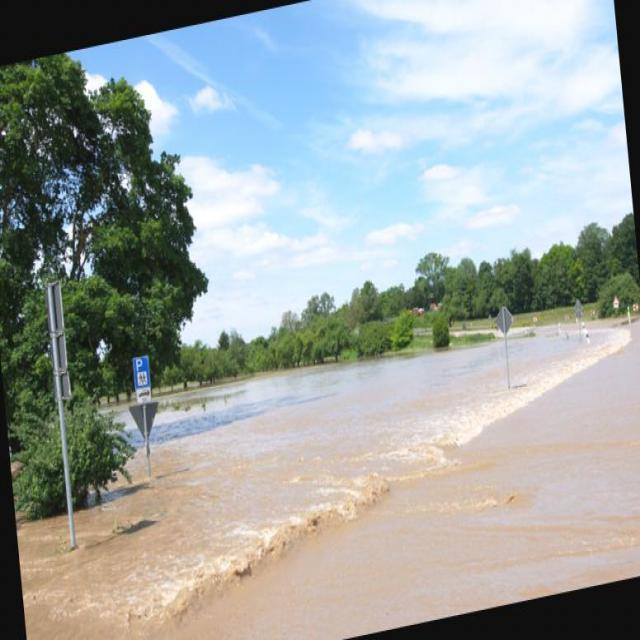flood: (10, 286, 639, 639)
